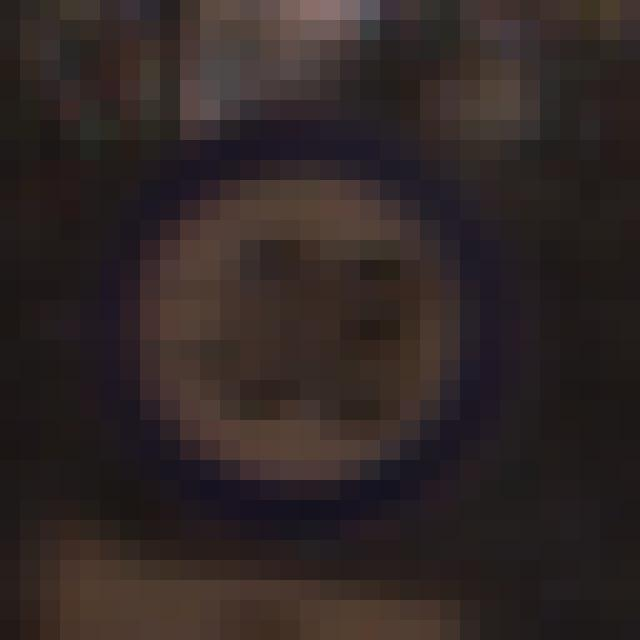SPEED-LIMIT-80: (108, 143, 496, 503)
